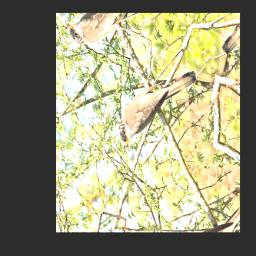Cuckoo: (110, 54, 203, 153)
